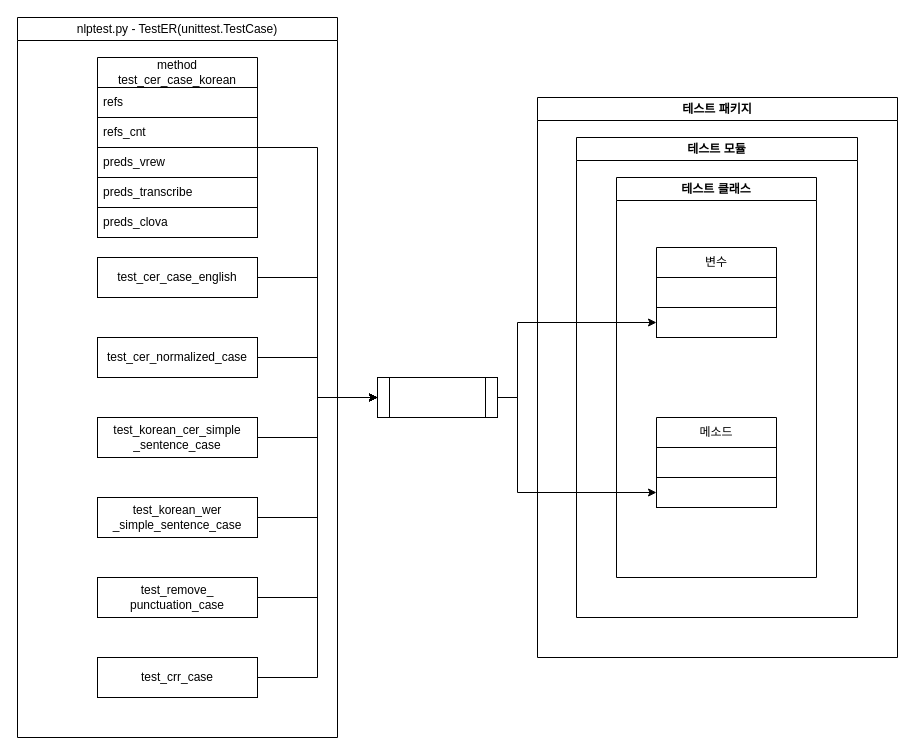
Image size: 915x755. Some labels were removed from this diagram. The shapes that lost their labels are listed below. From the top down, each one's centre as x and y in pixels, then its label:
At [716,292]: "long_case".
At [716,322]: "shorts_case".
At [437,397]: "변수 or 함수 판별".
At [716,462]: "test_long_cer_case".
At [716,492]: "test_shorts_ er_case".
